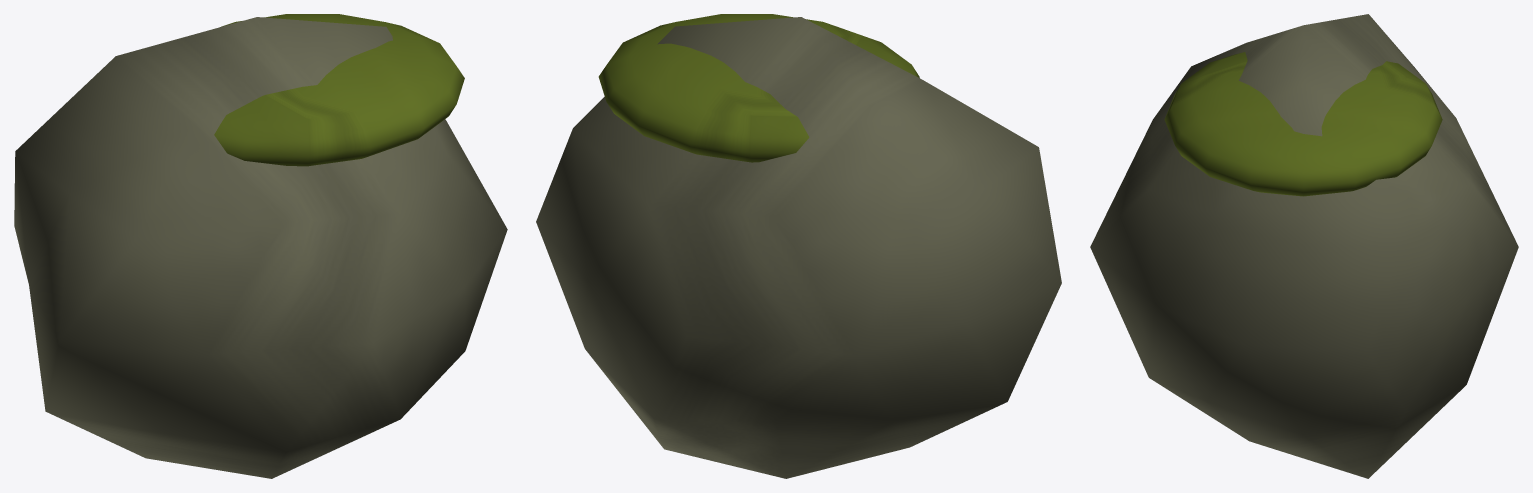
The model's file is Rock_0.fbx.
3 views of the same model, side by side, from view 1: azimuth 30°, elevation 25°; view 2: azimuth 150°, elevation 25°; view 3: azimuth 270°, elevation 25° (orthographic). The views are drawn at different scales.
Parts seen in each view (by area): view 1: Rock_0; view 2: Rock_0; view 3: Rock_0.
Boxes of the visible parts, left/top/right/bottom form: Rock_0: left=14, top=14, right=507, bottom=478; Rock_0: left=536, top=14, right=1061, bottom=478; Rock_0: left=1090, top=14, right=1518, bottom=478.
Bounding box in the file's own units: 71.42 × 66.11 × 61.64.
1 material, 1 textured.
